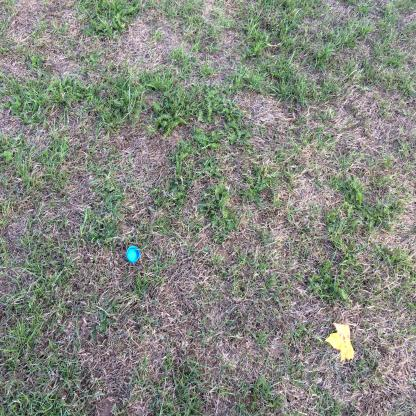plastik: (126, 245, 140, 263)
